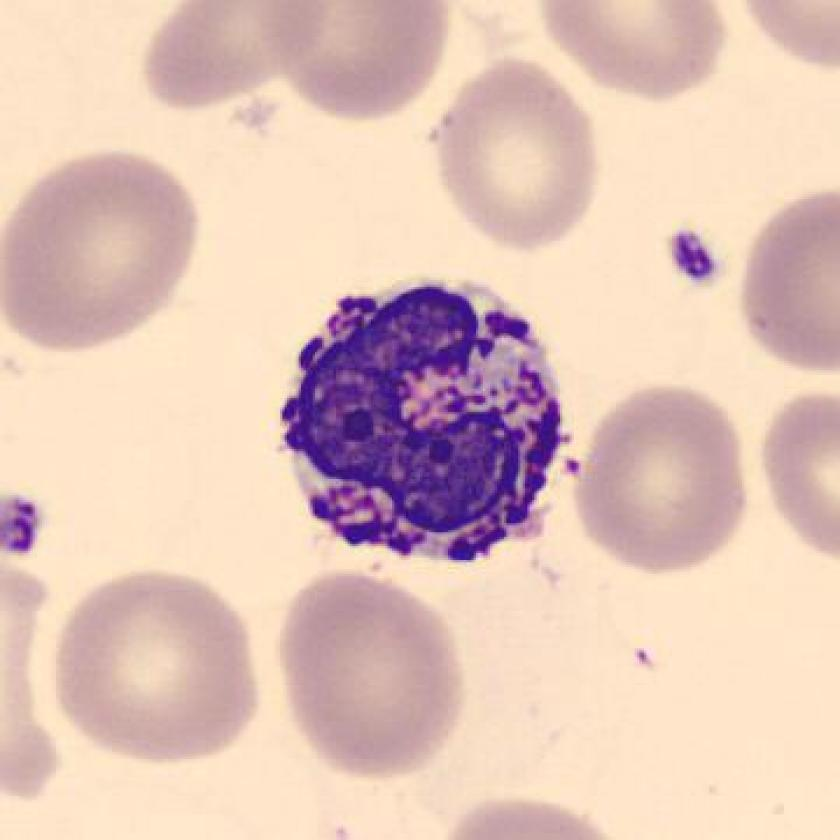basophil: (260, 267, 573, 577)
